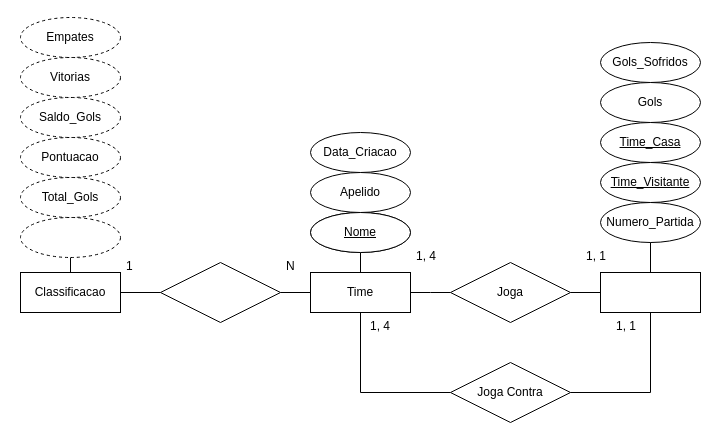
The diagram is 718 pixels wide and 440 high, and some of its shapes have lost their labels. The centre of each missing label's shape, as x and y in pixels:
Classifica: the point at 220,292
Partida: the point at 650,292
Total_Gols_Sofridos: the point at 70,237
